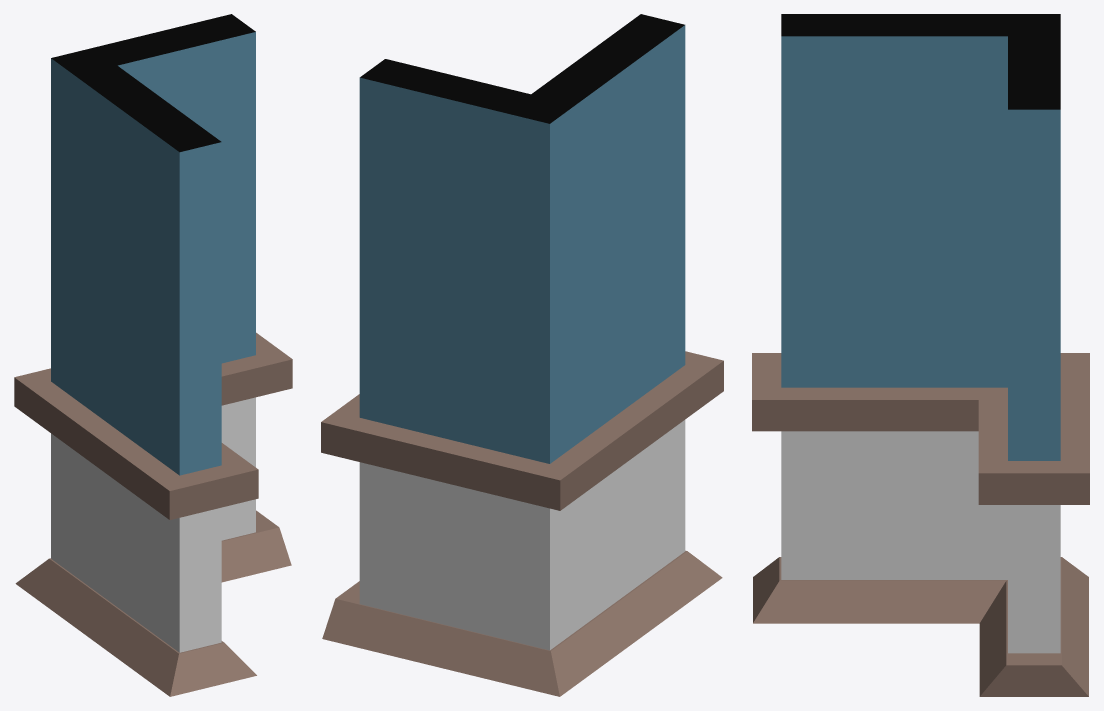
File: coin 2.fbx
The picture shows the model from 3 angles, left to right: view 1: azimuth 30°, elevation 25°; view 2: azimuth 150°, elevation 25°; view 3: azimuth 270°, elevation 25°; orthographic projection. The views are drawn at different scales.
Visible parts, largest first — view 1: coin_2; view 2: coin_2; view 3: coin_2.
Part boxes in pixels (<box>): coin_2: <box>14,14,292,696</box>; coin_2: <box>321,14,723,696</box>; coin_2: <box>752,14,1089,696</box>.
Bounding box in the file's own units: 1.35 × 3 × 1.6.
